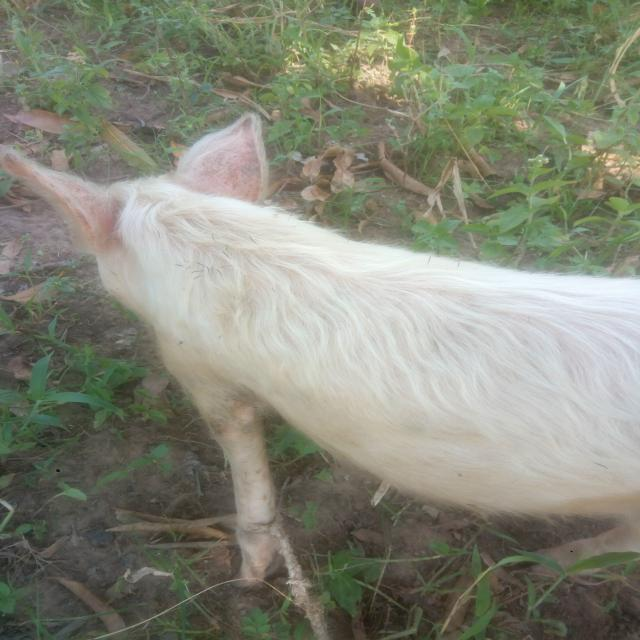pig: (0, 80, 640, 618)
